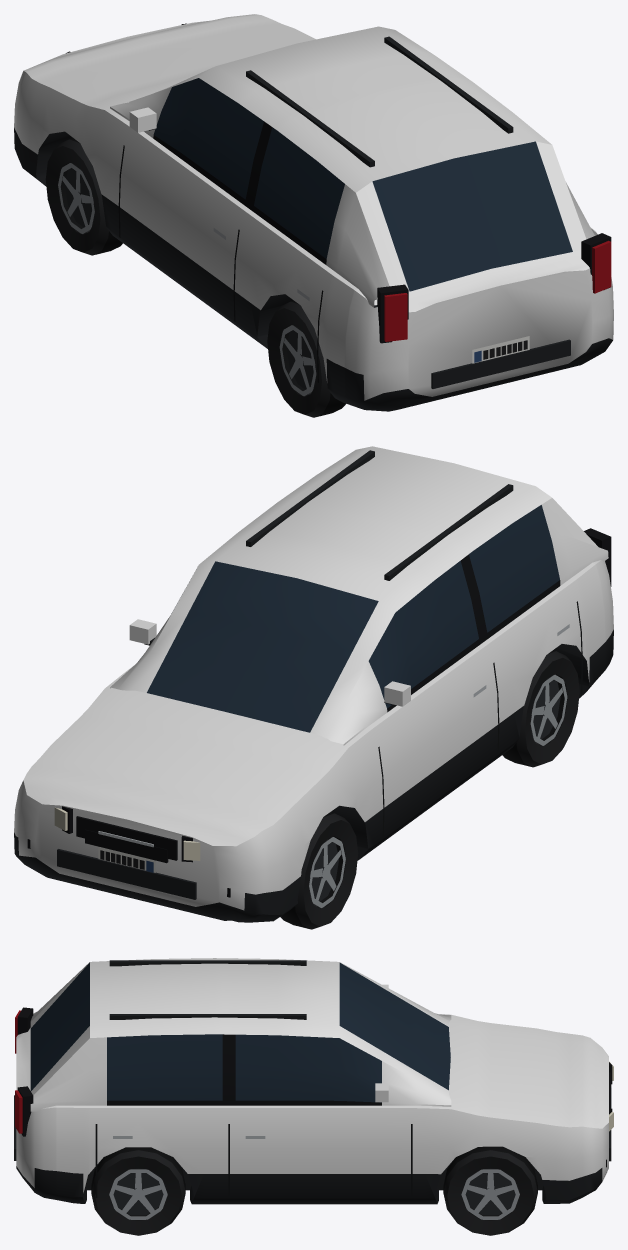
Rendered from suv.glb.
The picture shows the model from 3 angles, top to bottom: view 1: azimuth 30°, elevation 25°; view 2: azimuth 150°, elevation 25°; view 3: azimuth 270°, elevation 25°; orthographic projection. The views are drawn at different scales.
Visible parts, largest first — view 1: suv; view 2: suv; view 3: suv.
Part boxes in pixels (x1=…): suv: x1=14, y1=14, x2=613, y2=417; suv: x1=14, y1=446, x2=613, y2=929; suv: x1=14, y1=958, x2=613, y2=1235.
Bounding box in the file's own units: 1.91 × 1.69 × 4.57.
